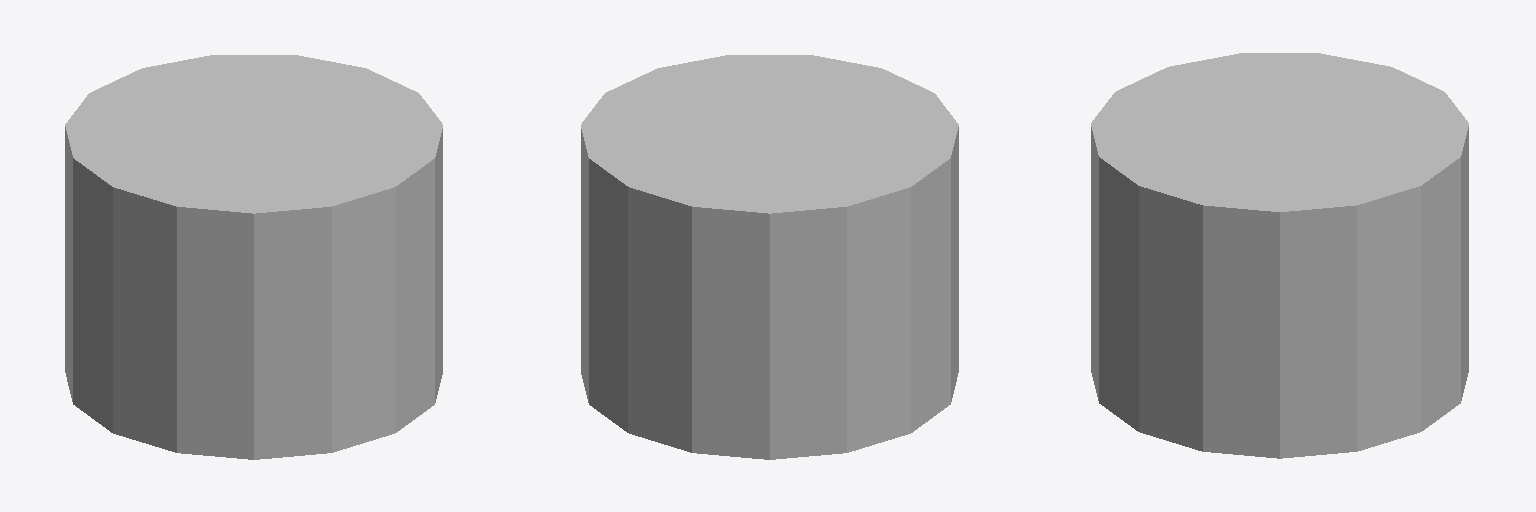
Rendered from Can_Beans.obj.
3 renders of one model, left to right at view 1: azimuth 30°, elevation 25°; view 2: azimuth 150°, elevation 25°; view 3: azimuth 270°, elevation 25°, orthographic.
Parts seen in each view (by area): view 1: pCylinder1; view 2: pCylinder1; view 3: pCylinder1.
Part boxes in pixels (bbox=[...]): pCylinder1: bbox=[65, 55, 442, 459]; pCylinder1: bbox=[581, 55, 958, 459]; pCylinder1: bbox=[1091, 53, 1468, 458].
Bounding box in the file's own units: 0.6231 × 0.45 × 0.6265.